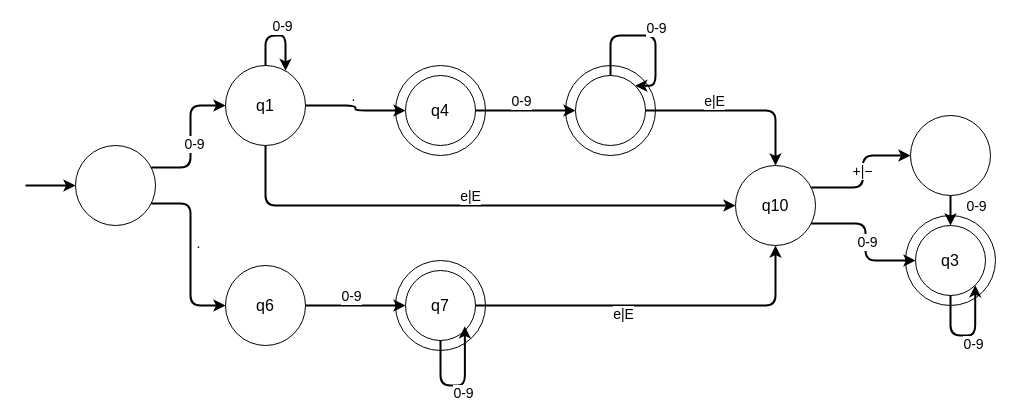
Image size: 1013x419. Some labels were removed from this diagram. The centre of each missing label's shape, as x and y in pixels:
"q0" belongs at (115,185).
"q2" belongs at (950,155).
"q5" belongs at (610,110).
